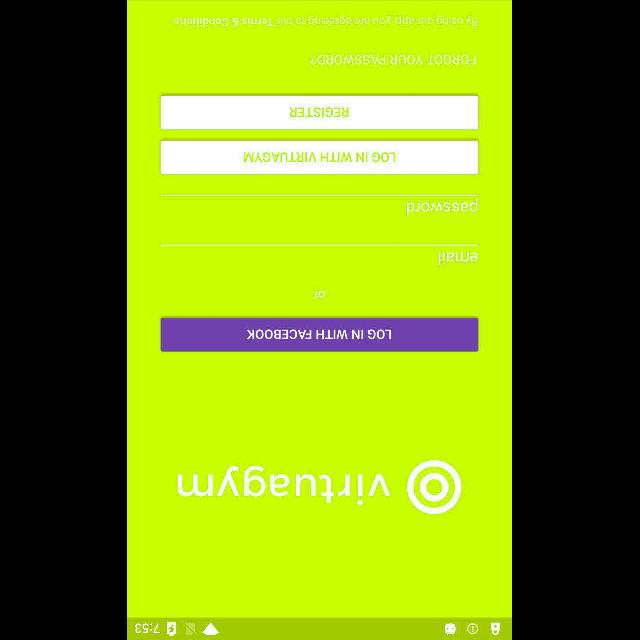image: (408, 459, 462, 515)
input: (161, 194, 479, 216), (161, 244, 479, 266)
text: (178, 466, 392, 506), (175, 15, 479, 27), (312, 55, 476, 65), (408, 198, 478, 216), (439, 252, 478, 266), (314, 290, 326, 298)
textbutton: (161, 141, 479, 175), (162, 96, 478, 130), (162, 318, 478, 352)
uppertaskbar: (128, 617, 512, 639)
